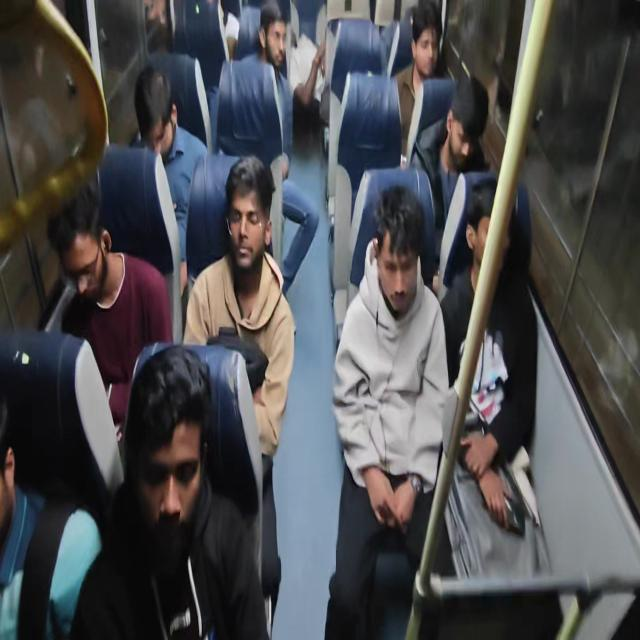person: (69, 344, 270, 639), (324, 184, 450, 638), (182, 154, 295, 636), (439, 180, 544, 580), (46, 180, 174, 445), (215, 2, 325, 290), (0, 398, 102, 639), (133, 64, 208, 290), (215, 2, 294, 180), (409, 73, 489, 228), (0, 397, 46, 638), (393, 4, 450, 168)
